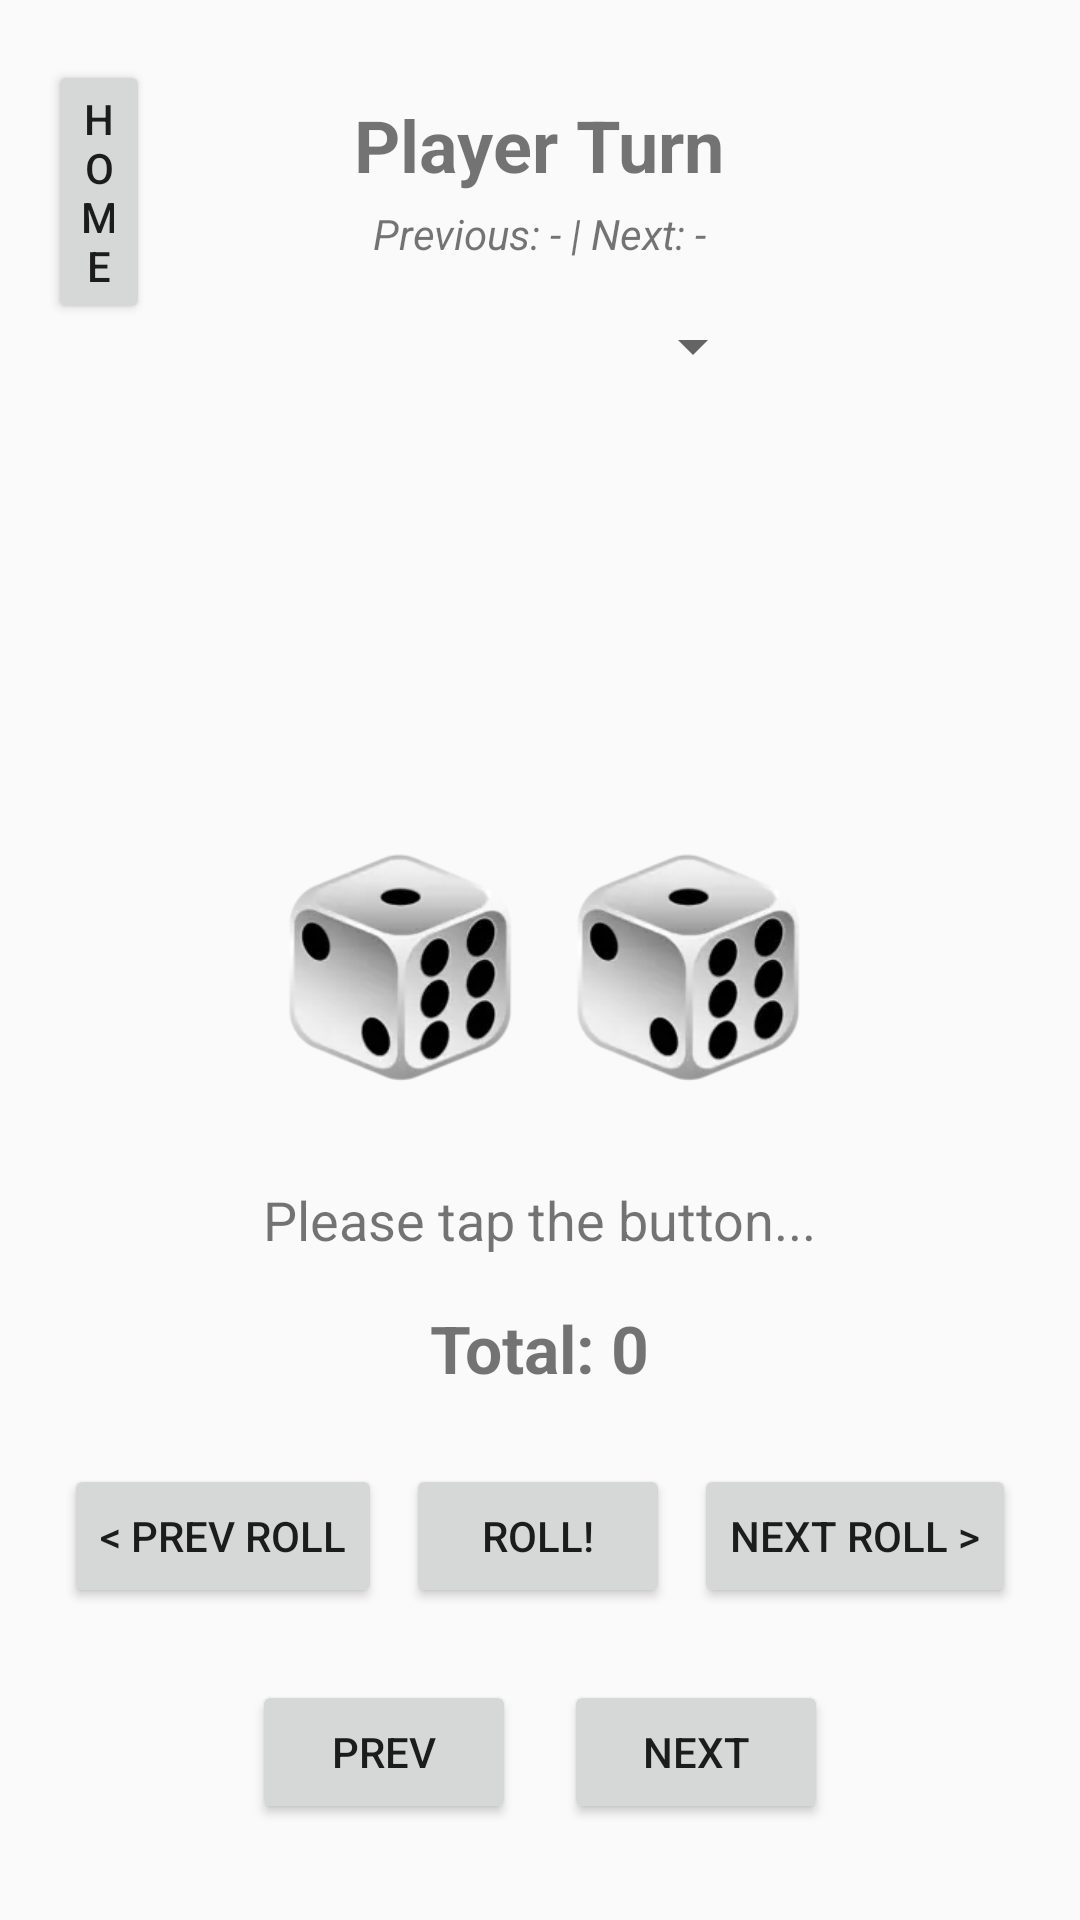

Where icons sit on this 1080*1920 app screen, as detection(x1, y1, x2, y2):
dicegeneral: detection(290, 855, 511, 1080), detection(578, 855, 799, 1080)
